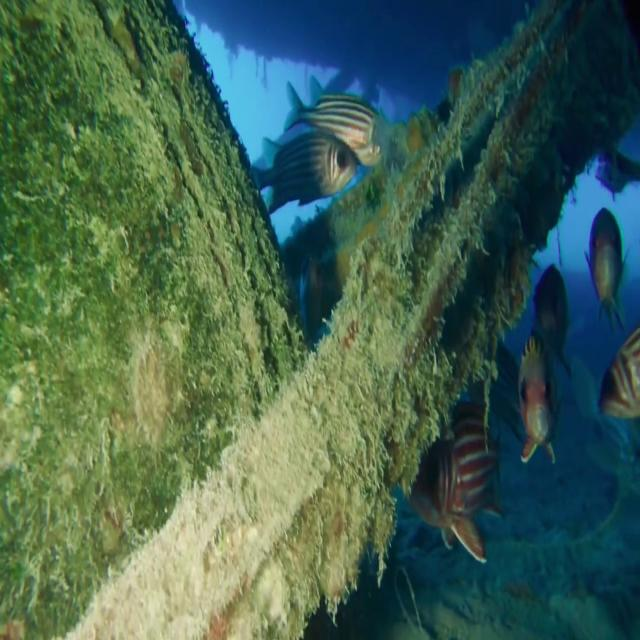Asker Baligi: (248, 72, 382, 216)
